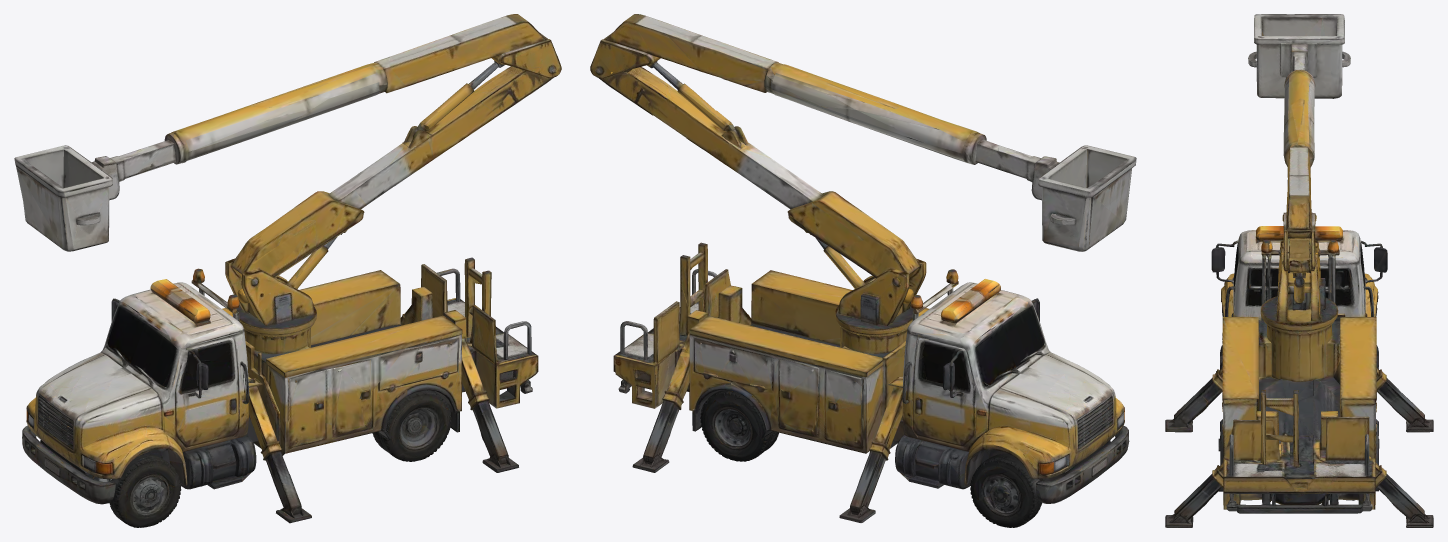
File: ewp_truck_2.glb
3 renders of one model, left to right at view 1: azimuth 30°, elevation 25°; view 2: azimuth 150°, elevation 25°; view 3: azimuth 270°, elevation 25°, orthographic. The views are drawn at different scales.
Bounding box in the file's own units: 1.9 × 1.34 × 0.9031.
Materials: 1 (1 with a texture image).
